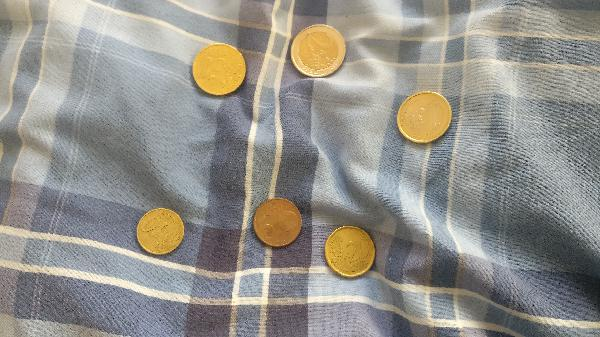Fifty Cent: (189, 44, 250, 94)
Five Cent: (252, 198, 302, 247)
One Euro: (391, 90, 456, 147)
Ten Cent: (136, 207, 191, 254)
Twenty Cent: (324, 224, 375, 281)
Two Euro: (290, 22, 349, 79)
